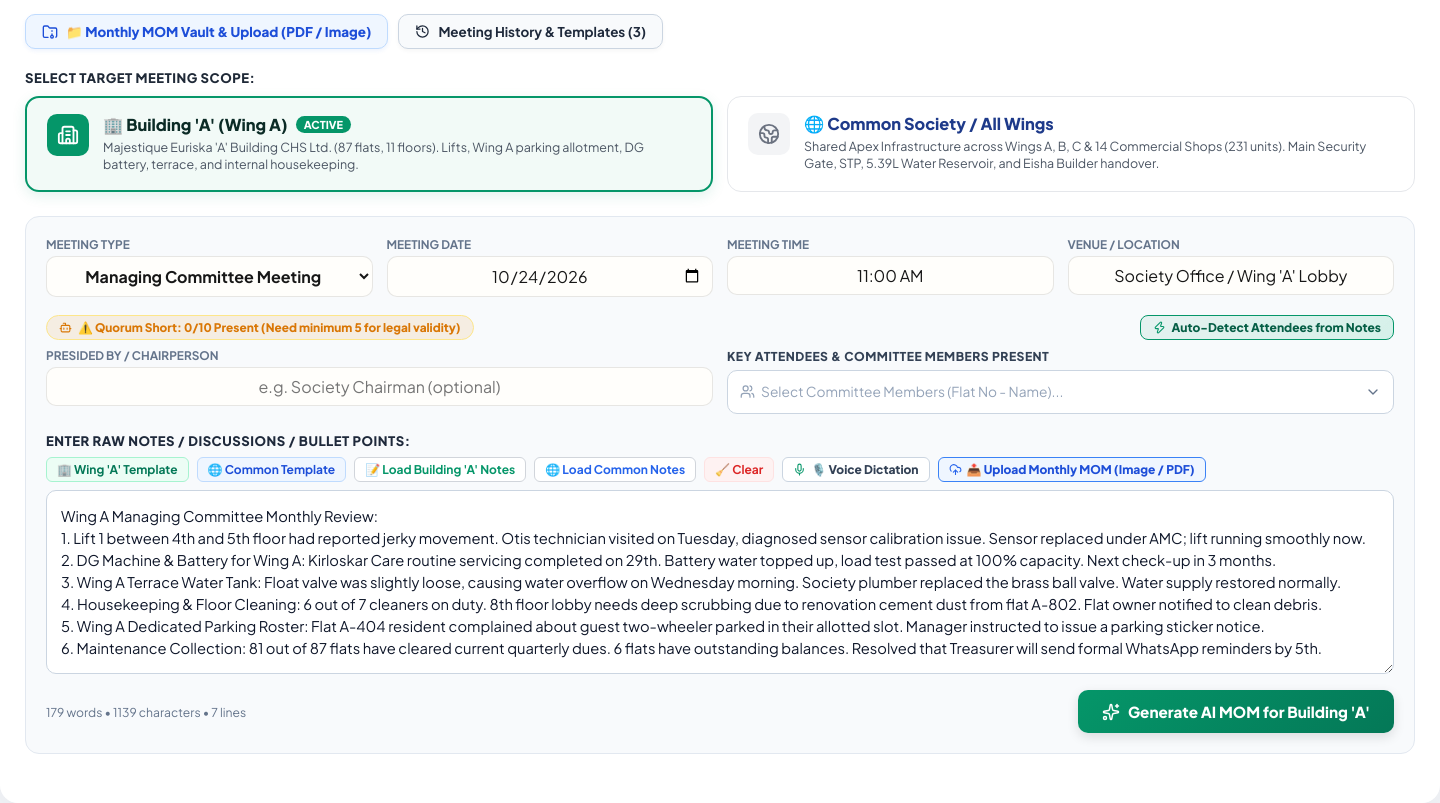
it: AiMomGenerator Component › allows switching between view modes: Edit, Action Register, and Letterhead
(page scrolled)
Click the button "Generate AI MOM for Building 'A'" at (1236, 712), box [1078,690,1394,734]
(page scrolled)
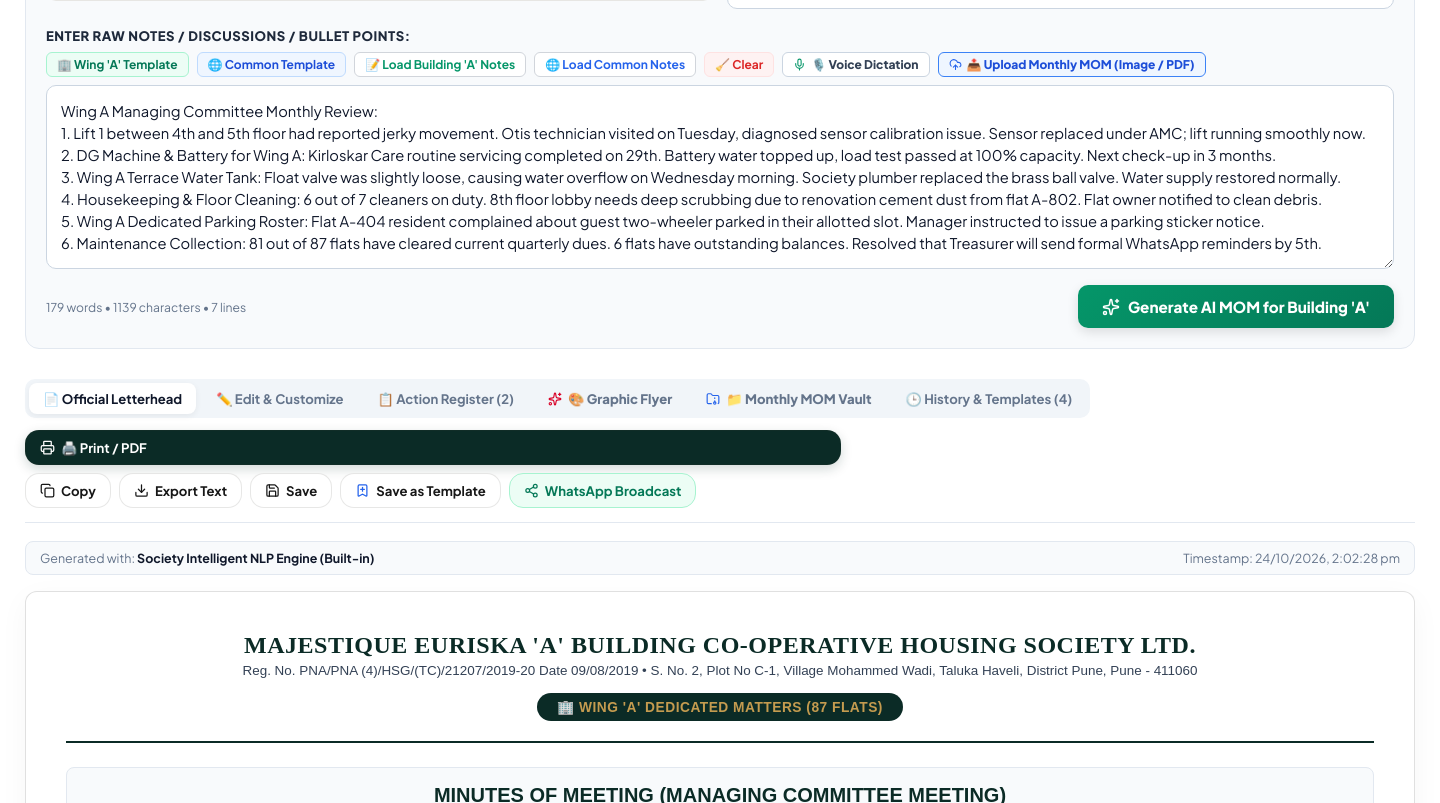
Expected: the button "📄 Official Letterhead" is shown, [29,384,196,414]
// Switch to Edit Mode
Click the button "✏️ Edit & Customize" at (280, 399), box [202,384,358,414]
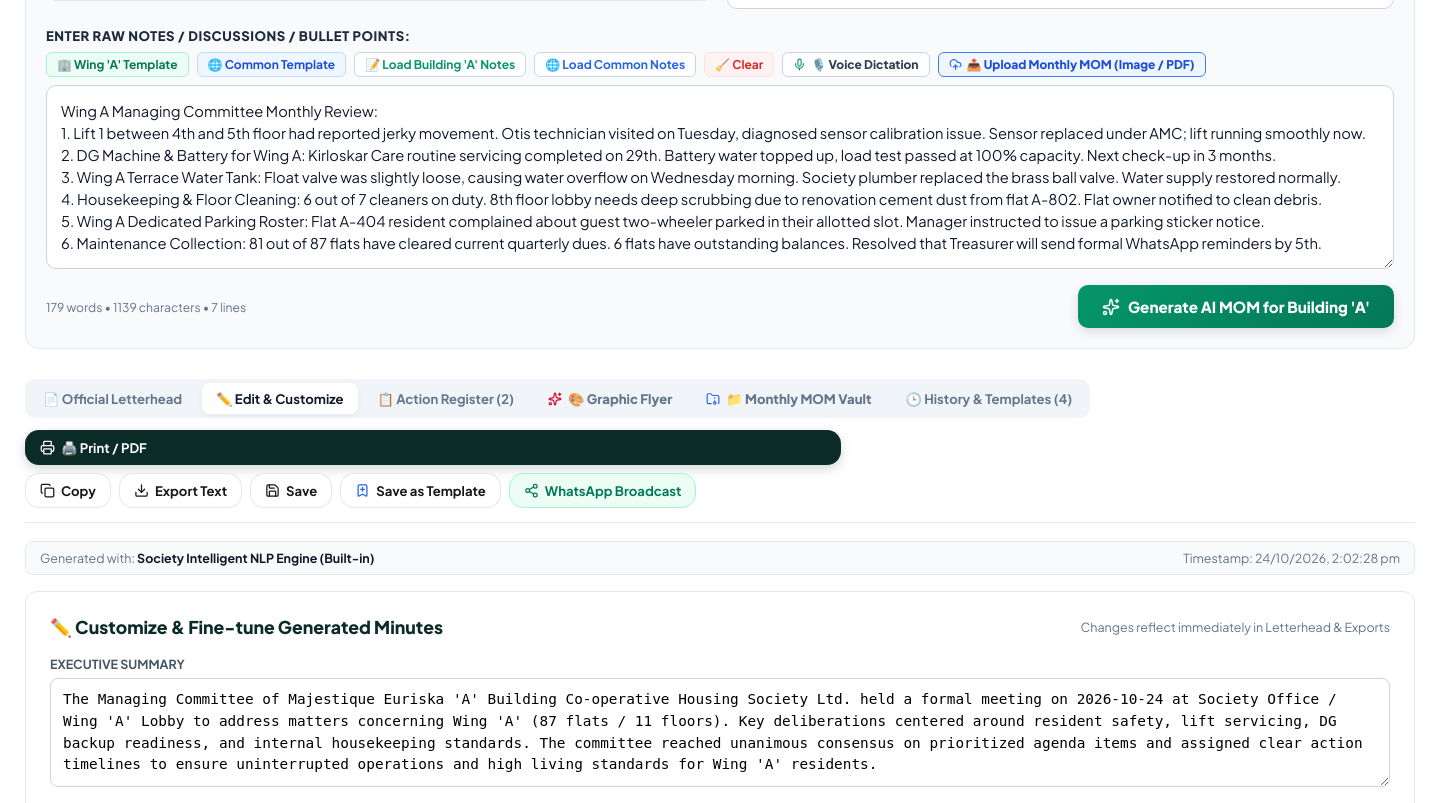
Expected: the heading "✏️ Customize & Fine-tune Generated Minutes" is shown, [50,616,443,638]
// Switch to Action Register
Click the button "📋 Action Register (2)" at (446, 399), box [364,384,528,414]
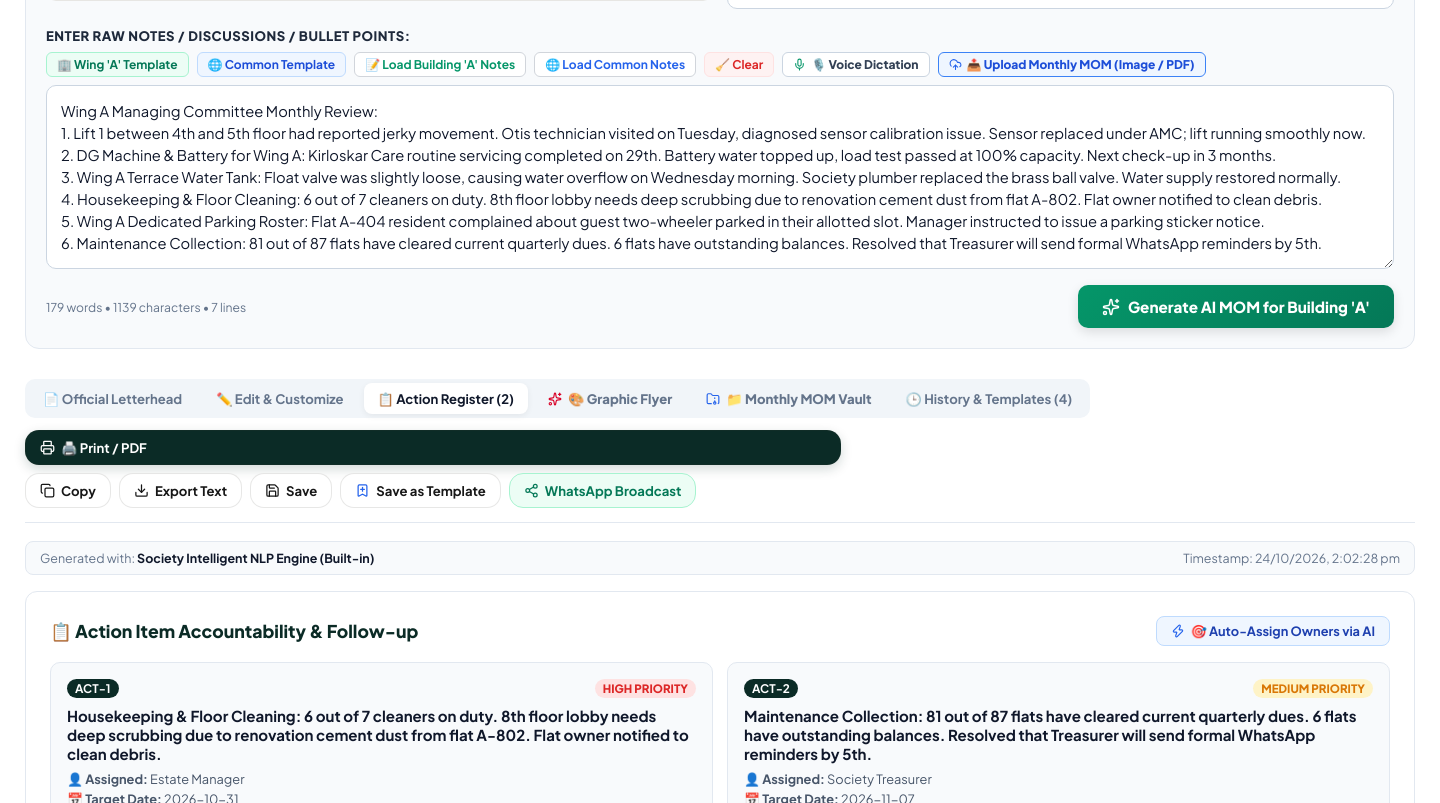
Expected: the heading "📋 Action Item Accountability & Follow-up" is shown, [50,620,418,642]
